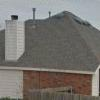Chimney: (1, 9, 32, 64)
